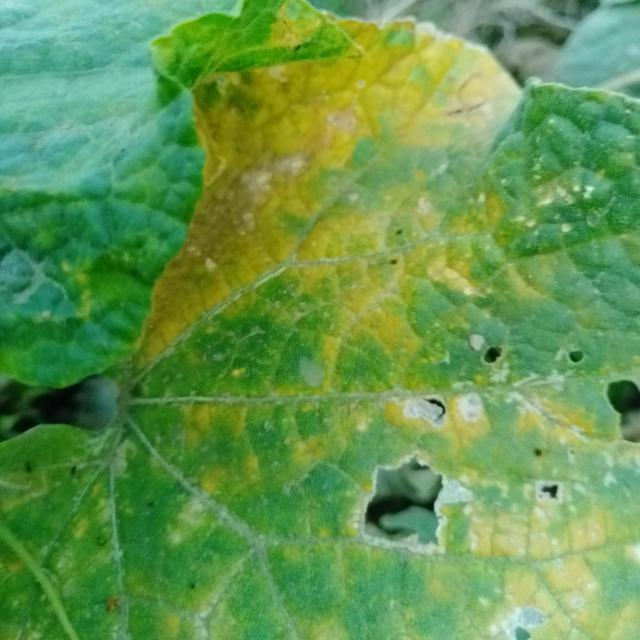cucumber_anthracnose: (192, 124, 637, 629)
